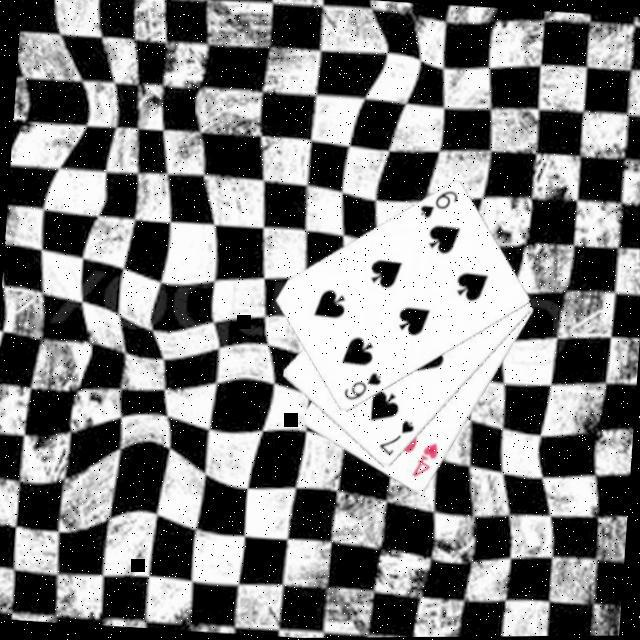4H: (409, 441, 443, 485)
6S: (342, 368, 386, 408), (417, 188, 462, 226)
7S: (376, 416, 419, 463)
